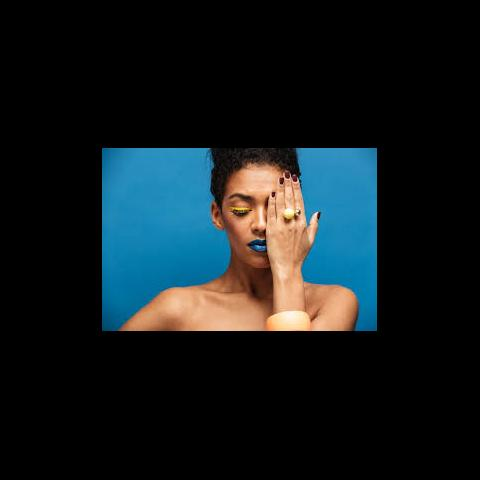closed: (222, 191, 262, 222)
